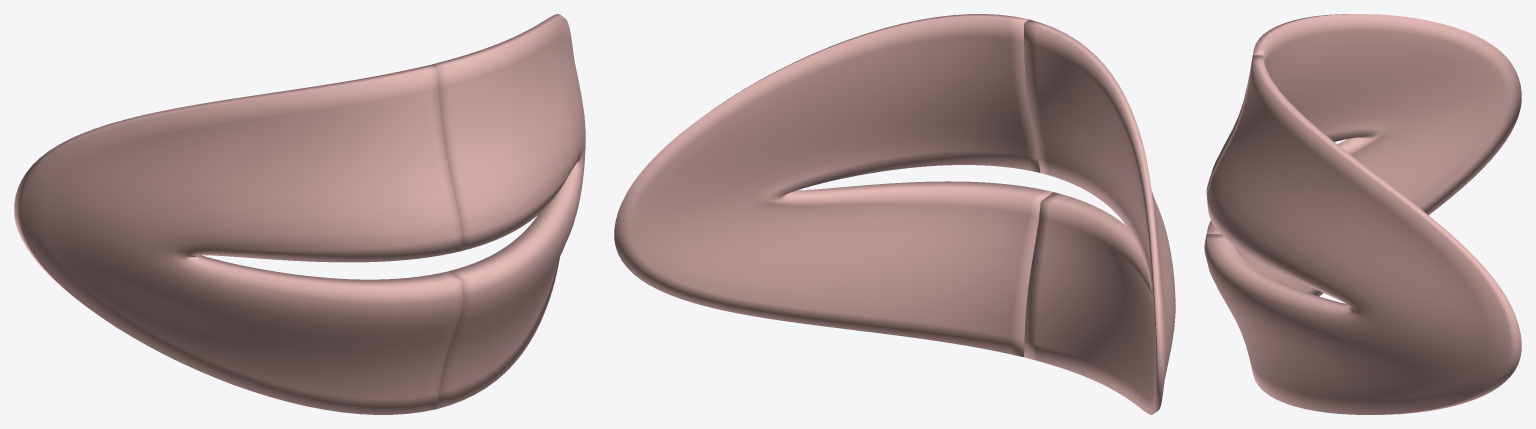
Rendered from orbicularis_oris_lod1.glb.
3 renders of one model, left to right at view 1: azimuth 30°, elevation 25°; view 2: azimuth 150°, elevation 25°; view 3: azimuth 270°, elevation 25°, orthographic. The views are drawn at different scales.
Visible parts, largest first — view 1: orbicularis_oris_R_lod1, orbicularis_oris_L_lod1; view 2: orbicularis_oris_L_lod1, orbicularis_oris_R_lod1; view 3: orbicularis_oris_L_lod1, orbicularis_oris_R_lod1.
Boxes of the visible parts, x1,y1,x2,y2 form: orbicularis_oris_R_lod1: (14,65,462,414); orbicularis_oris_L_lod1: (431,14,585,408); orbicularis_oris_L_lod1: (614,14,1053,357); orbicularis_oris_R_lod1: (1024,19,1175,414); orbicularis_oris_L_lod1: (1204,55,1521,414); orbicularis_oris_R_lod1: (1204,14,1521,296).
Size of the model in its own units: 0.069 by 0.0405 by 0.0371.
